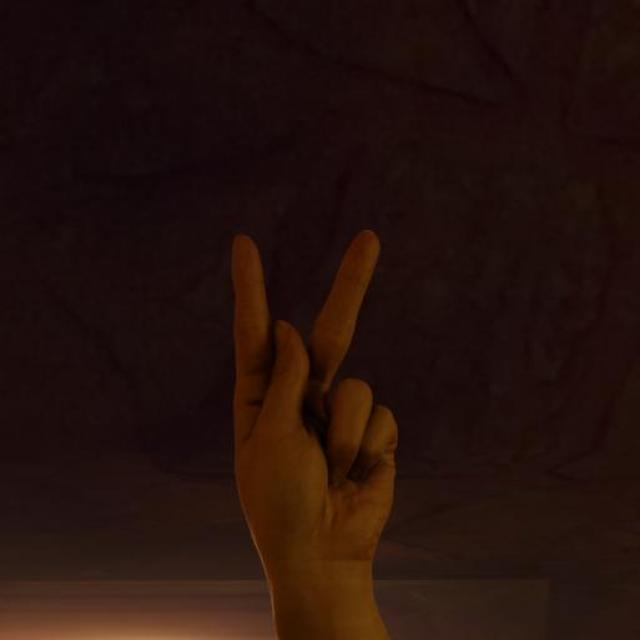K: (176, 197, 520, 623)
